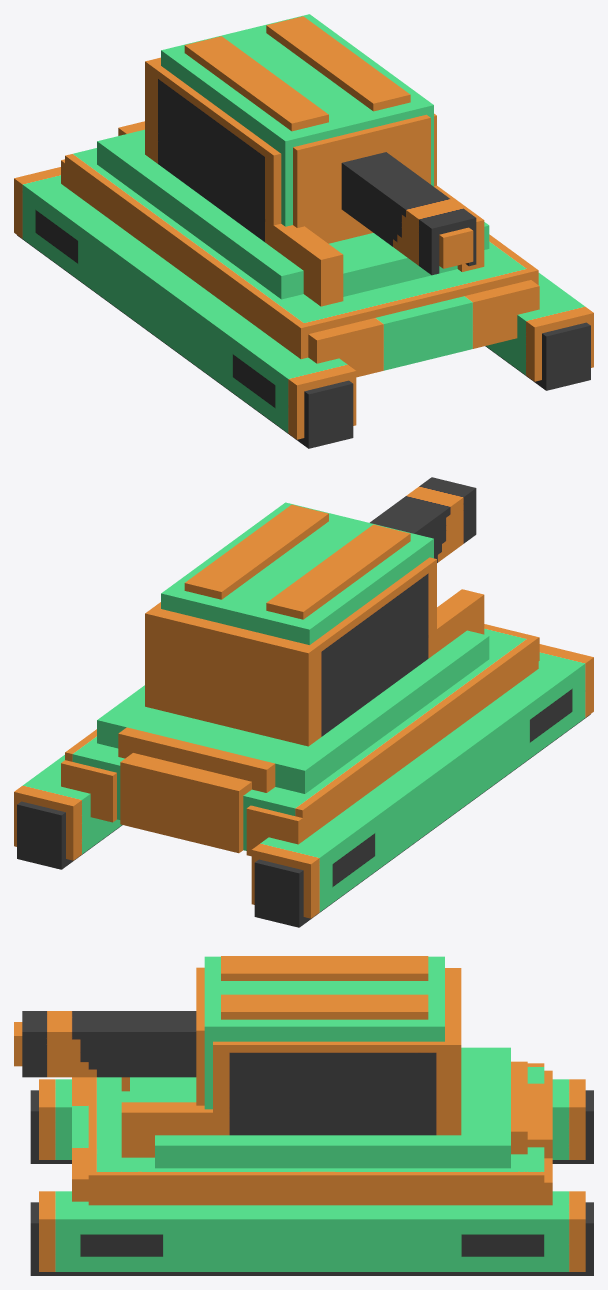
Rendered from Character_18.fbx.
The picture shows the model from 3 angles, top to bottom: view 1: azimuth 30°, elevation 25°; view 2: azimuth 150°, elevation 25°; view 3: azimuth 270°, elevation 25°; orthographic projection. The views are drawn at different scales.
Parts seen in each view (by area): view 1: Character_18; view 2: Character_18; view 3: Character_18.
Part boxes in pixels (box(x1,y1,x2,y2)): Character_18: box(14, 14, 593, 448); Character_18: box(14, 477, 593, 927); Character_18: box(14, 956, 593, 1275).
Bounding box in the file's own units: 40 × 30 × 70.
